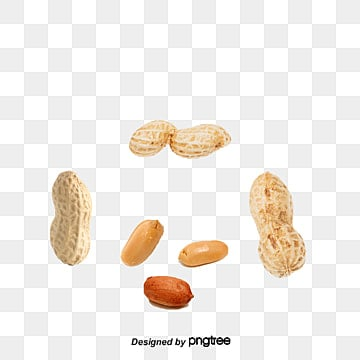kacang2: (237, 170, 321, 282), (28, 160, 100, 278), (129, 110, 233, 182)
